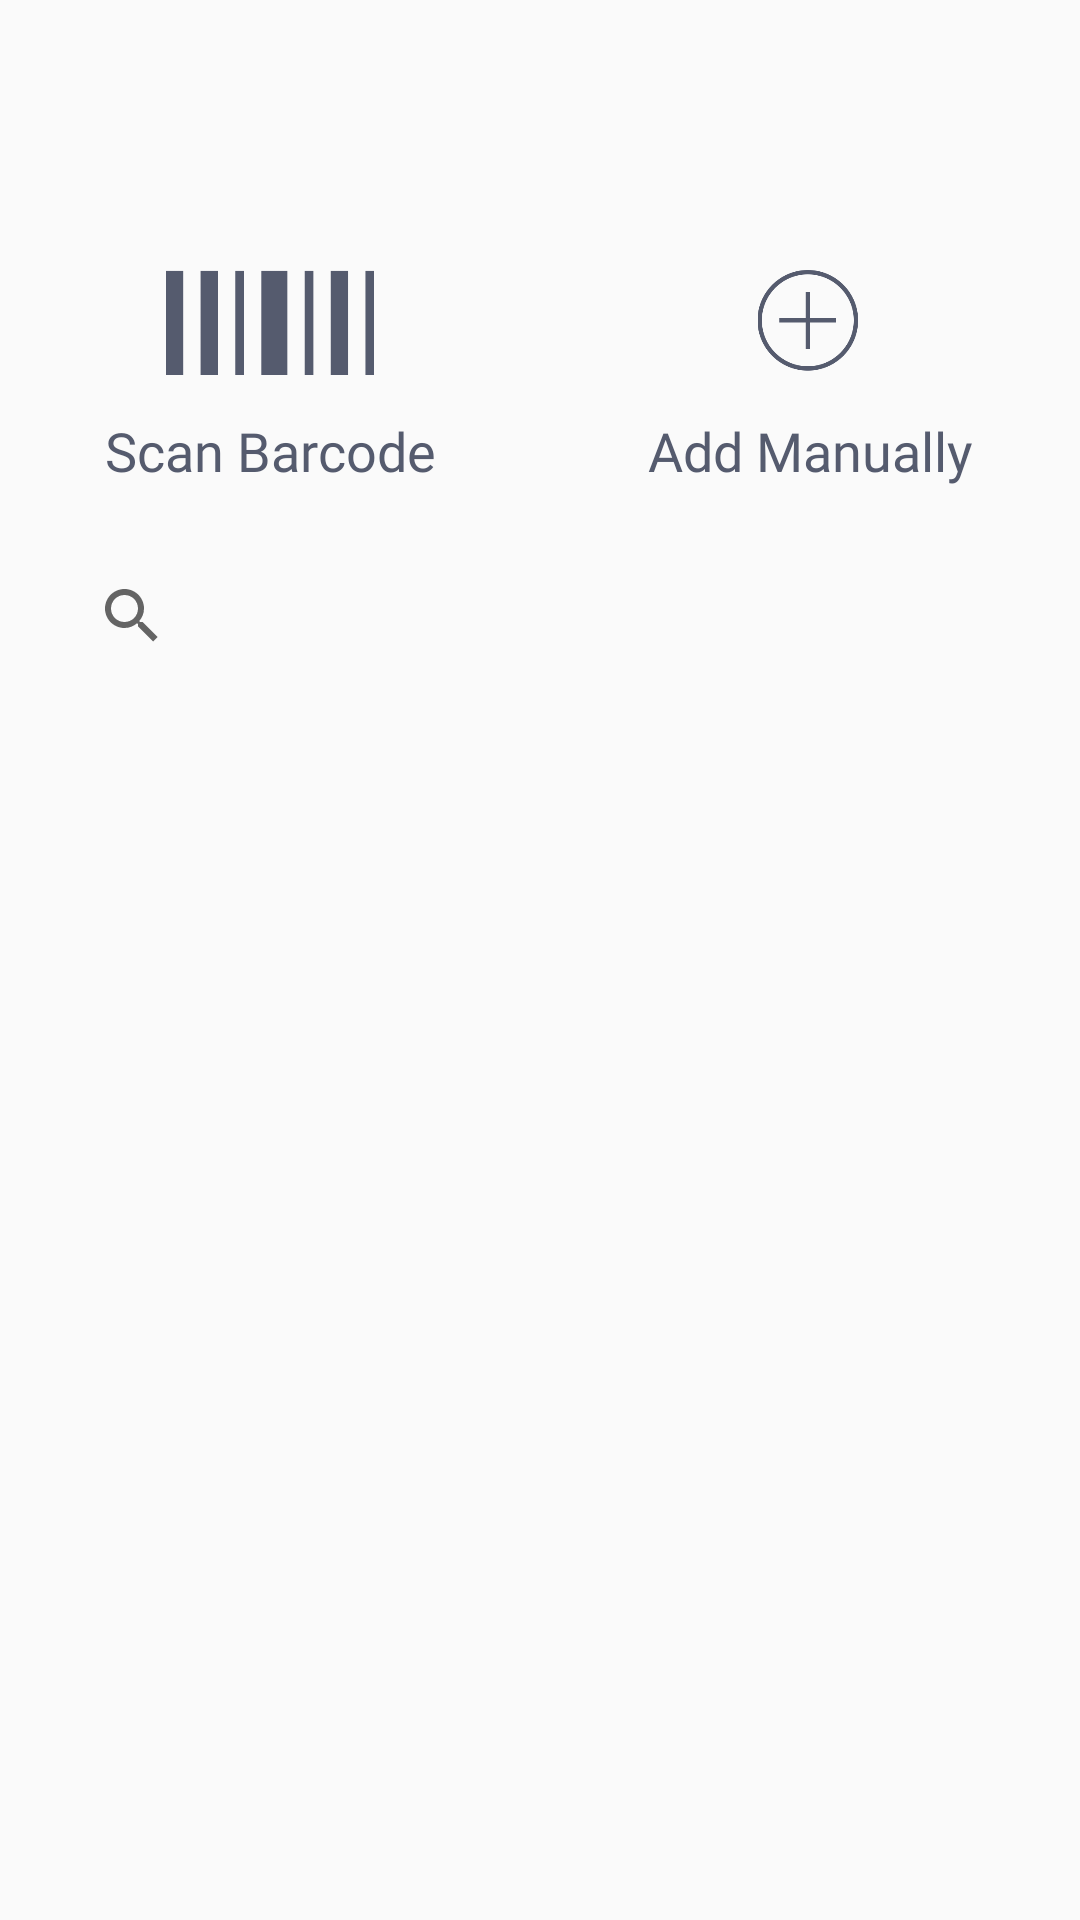

Screen size 1080x1920. Icon name, then its center in pixels as point (x, y):
add circled: point (808, 320)
